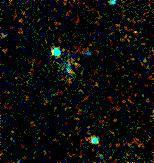star: (119, 25, 149, 55)
